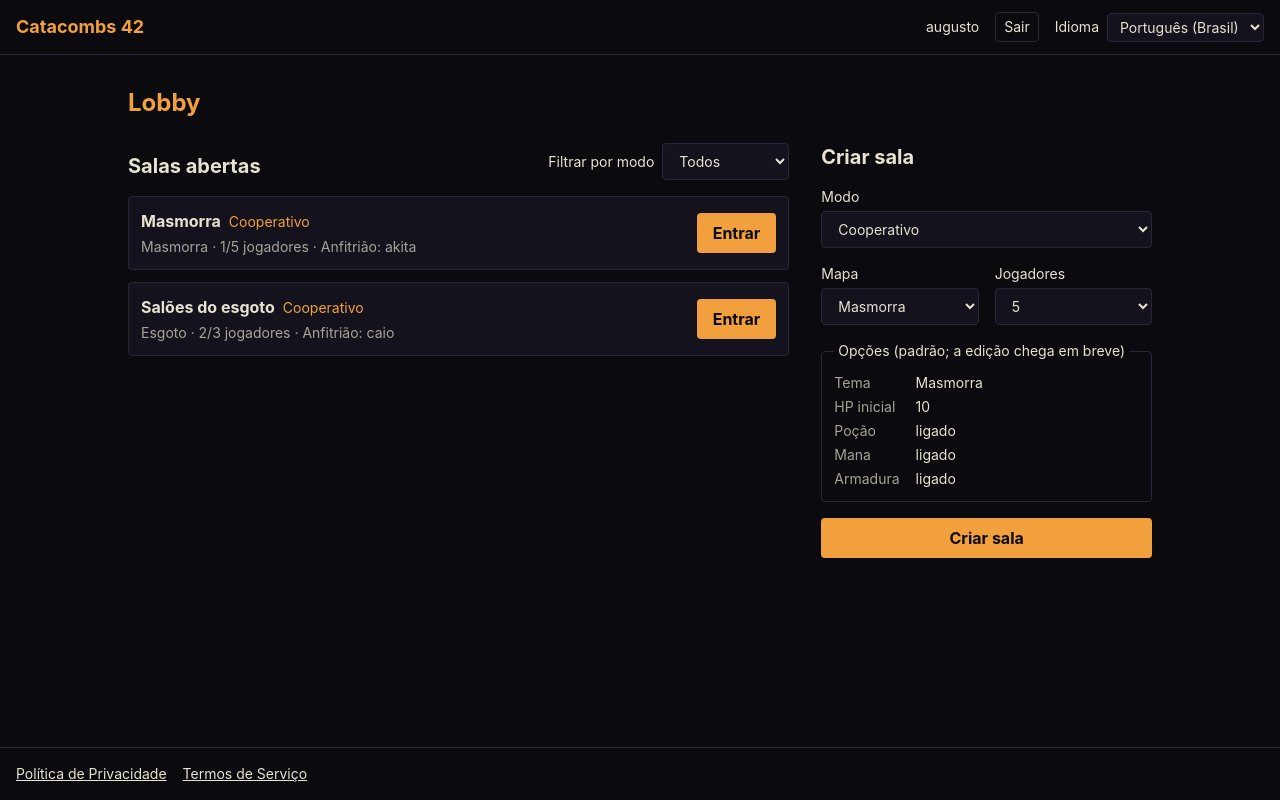
Test: lista de Rooms › Entrar leva à sala de espera
Expected: the element "Salas abertas" is shown, [128,143,789,356]
Expected: the text "Masmorra" below "Salas abertas" is shown, [141,211,221,231]
Click the button "Entrar" in the row of "1/5 jogadores". click: (736, 233)
box: [697,213,776,253]
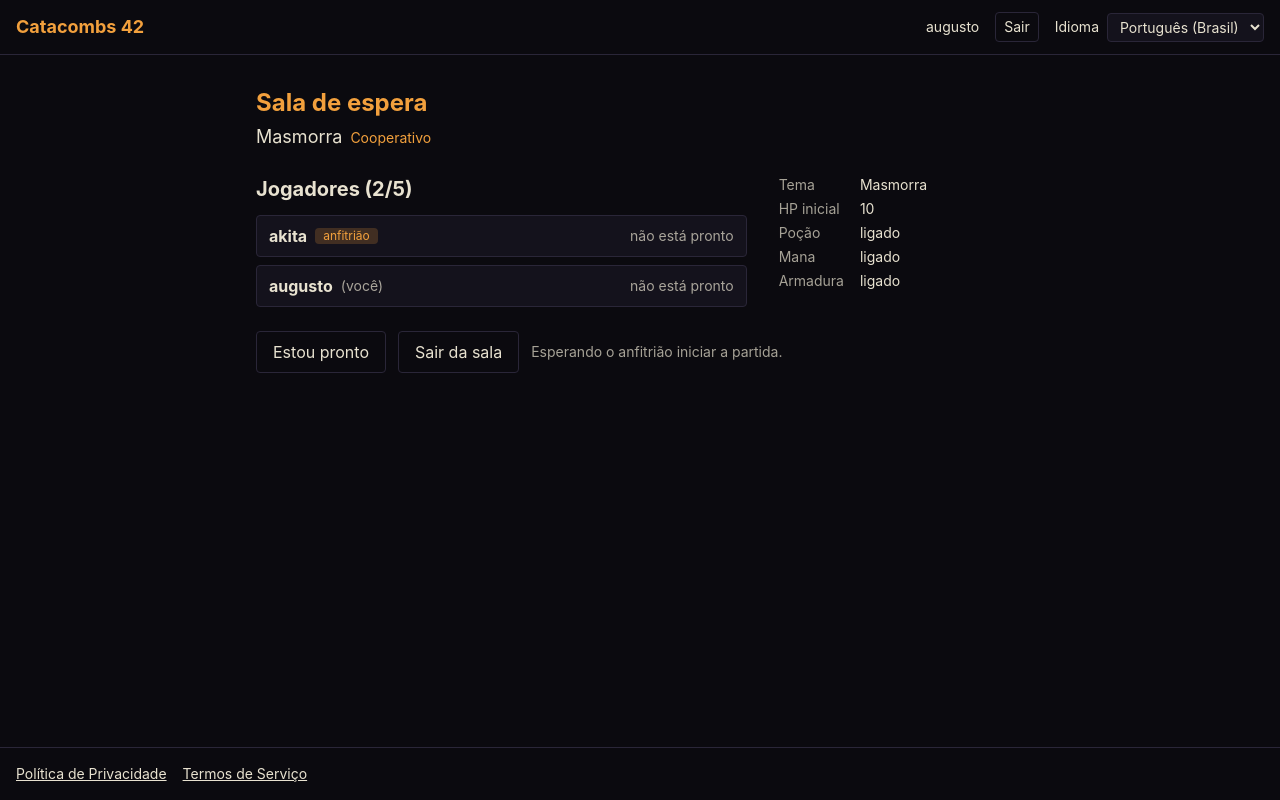
Now the heading "Jogadores (2/5)" is shown, box [256,177,412,201]
